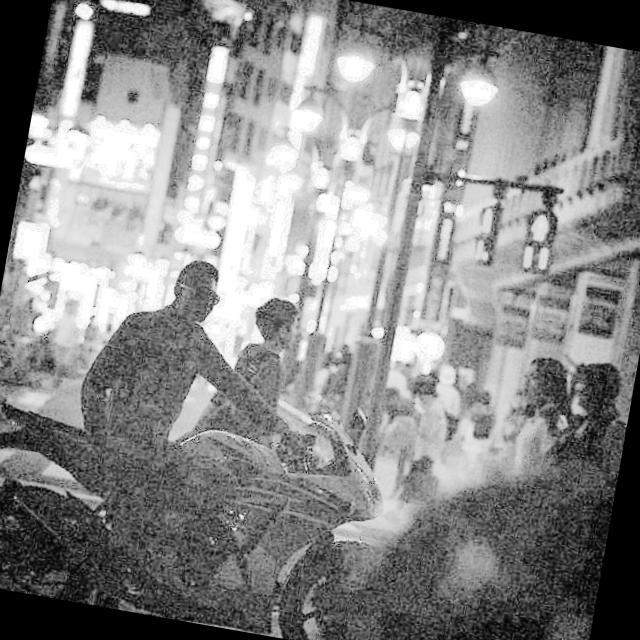Motorcycle: (0, 353, 426, 640)
Person: (35, 201, 247, 544), (443, 322, 628, 582), (182, 261, 336, 482), (331, 354, 474, 555)
